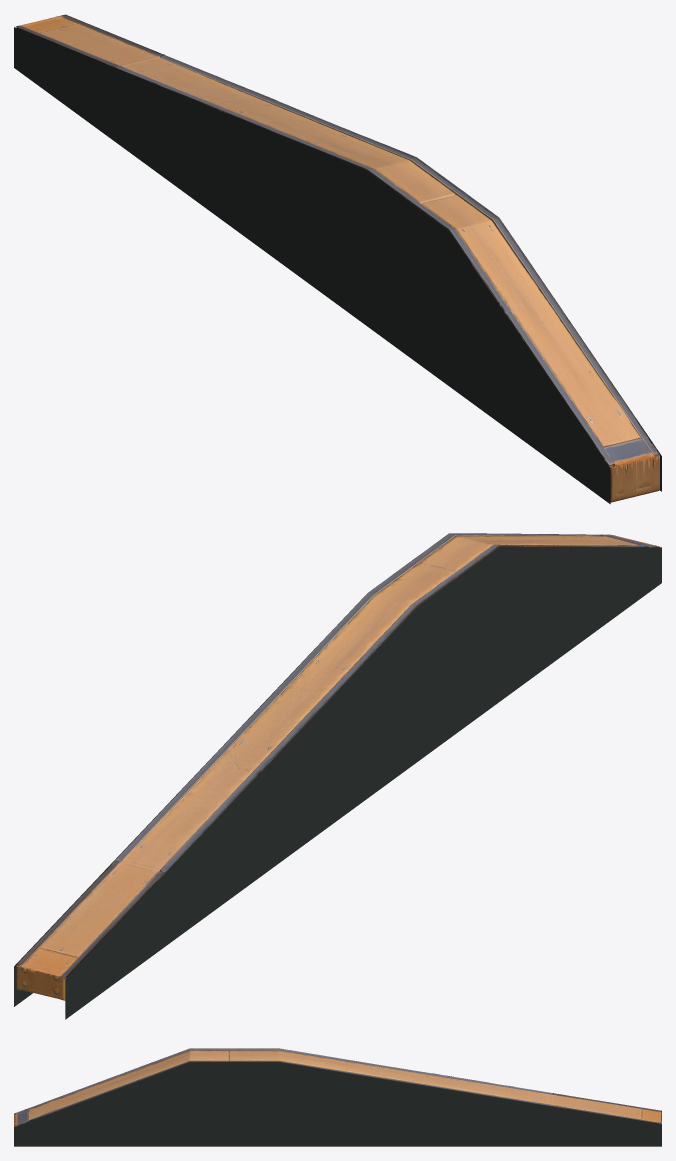
Rendered from wood-hub.glb.
3 renders of one model, top to bottom at view 1: azimuth 30°, elevation 25°; view 2: azimuth 150°, elevation 25°; view 3: azimuth 270°, elevation 25°, orthographic. The views are drawn at different scales.
Visible parts, largest first — view 1: wood-hub repaired side -1, wood-hub original Tripo mesh fitted; view 2: wood-hub repaired side -1, wood-hub original Tripo mesh fitted; view 3: wood-hub repaired side 1, wood-hub original Tripo mesh fitted.
Part boxes in pixels (x1,y1,x2,y2): wood-hub repaired side -1: (14, 27, 610, 504); wood-hub original Tripo mesh fitted: (16, 14, 659, 502); wood-hub repaired side -1: (65, 546, 661, 1019); wood-hub original Tripo mesh fitted: (16, 533, 659, 1000); wood-hub repaired side 1: (14, 1062, 661, 1146); wood-hub original Tripo mesh fitted: (14, 1048, 661, 1126).
Size of the model in its own units: 0.632 by 1.83 by 12.7.
Materials: 2 (1 with a texture image).
